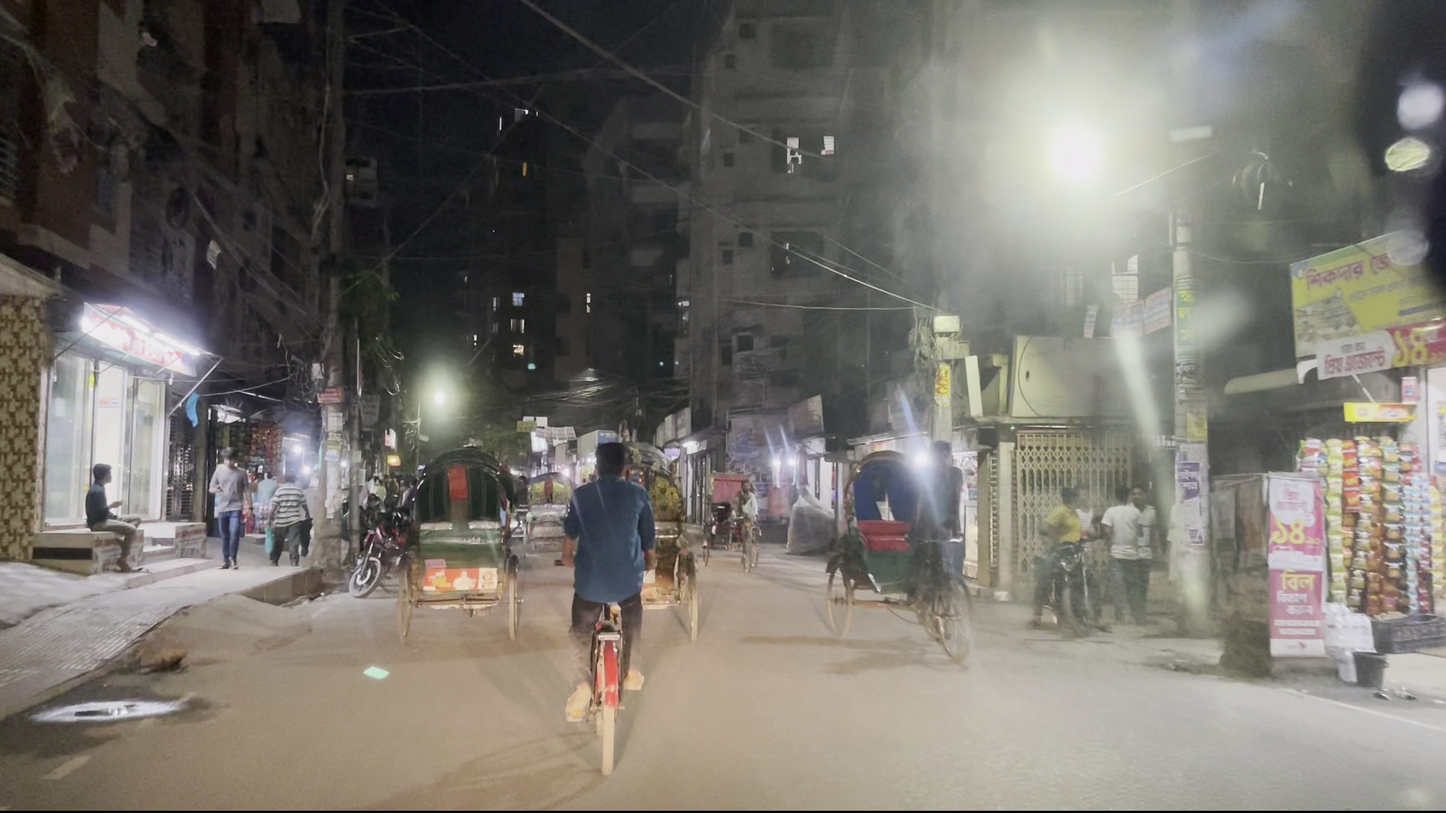bicycle: (555, 436, 666, 781)
motorbike: (1027, 483, 1103, 642)
person: (84, 458, 145, 577), (1100, 481, 1145, 639), (206, 441, 256, 573), (1126, 475, 1164, 617), (267, 468, 313, 576)
